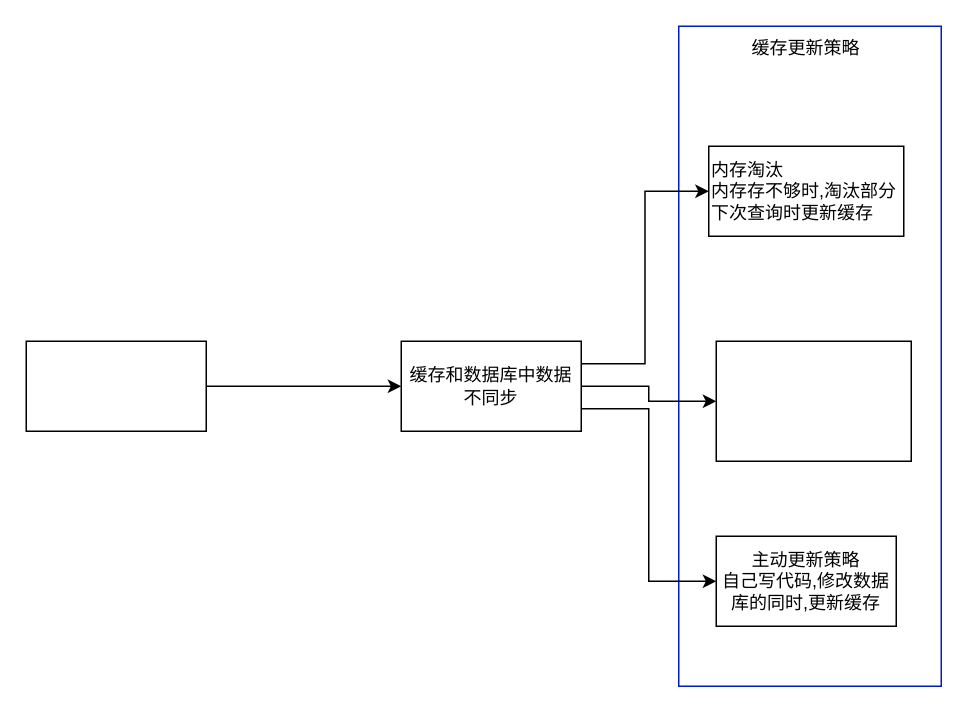
This 968x713 diagram has some shape labels left out. The centre of each missing label's shape, as x and y in pixels:
引入Redis缓存 降低了后端的压力 有什么缺点?: the point at 115,385
超时剔除策略 给缓存数据加上一个过期时间 下次查询时更新缓存: the point at 813,400
